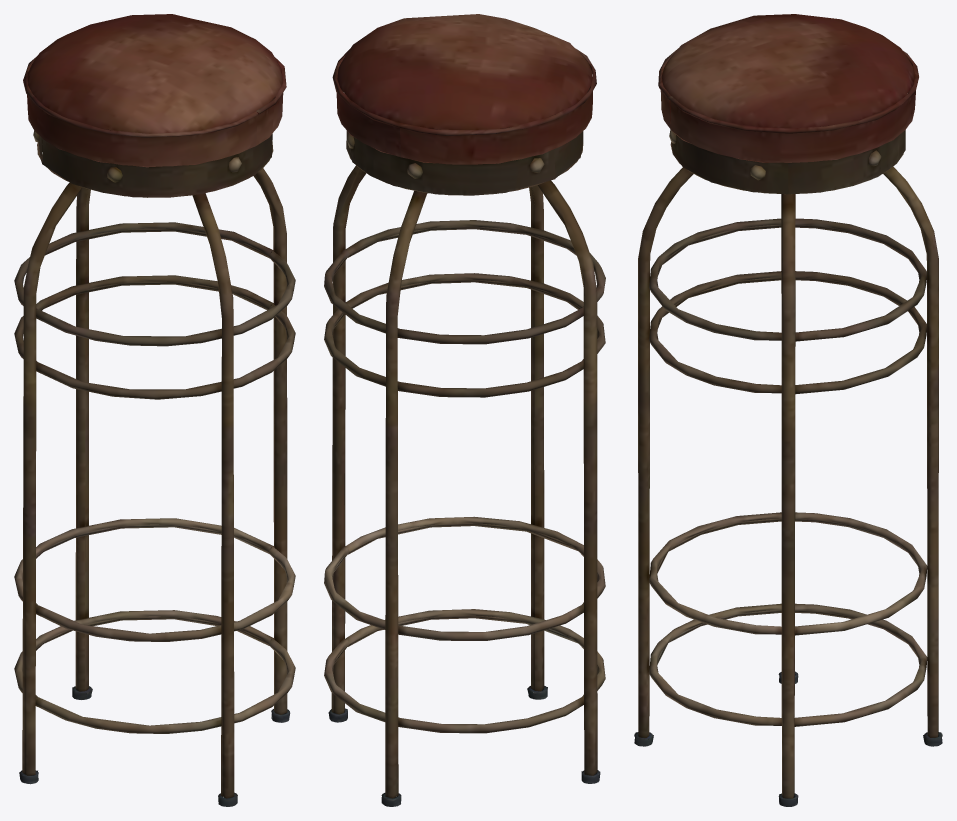
File: bar_stool.glb
3 renders of one model, left to right at view 1: azimuth 30°, elevation 25°; view 2: azimuth 150°, elevation 25°; view 3: azimuth 270°, elevation 25°, orthographic.
Visible parts, largest first — view 1: bar_stool; view 2: bar_stool; view 3: bar_stool.
Boxes of the visible parts, left/top/right/bottom form: bar_stool: left=14, top=14, right=295, bottom=806; bar_stool: left=324, top=14, right=605, bottom=806; bar_stool: left=634, top=14, right=942, bottom=806.
Bounding box in the file's own units: 0.352 × 0.8825 × 0.3546.
Materials: 1 (1 with a texture image).
